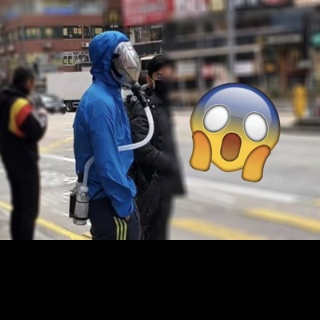with_mask: (115, 52, 142, 87), (151, 70, 176, 100)
